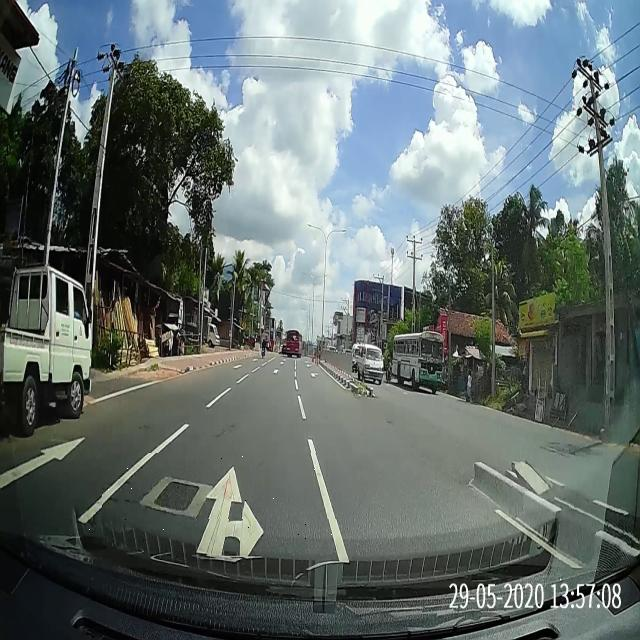forward_right: (79, 472, 350, 553), (87, 459, 343, 535), (103, 454, 339, 519)
